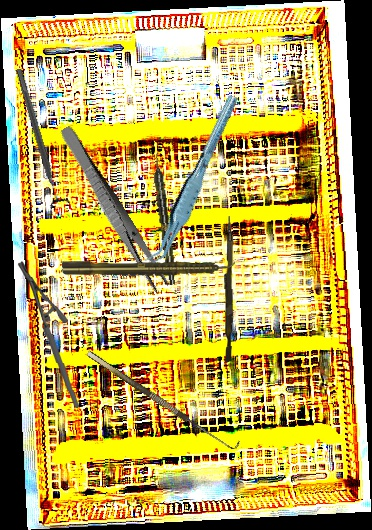Dressing Forceps: (54, 123, 172, 295)
Fixation Ring: (7, 65, 72, 210)
Handpiece: (150, 152, 179, 286), (62, 260, 235, 276)
Hook Surgical: (85, 342, 242, 455)
Needle Holder: (16, 259, 80, 410)
Pusher: (222, 216, 235, 362)
Tissue Forceps: (129, 93, 258, 270)
